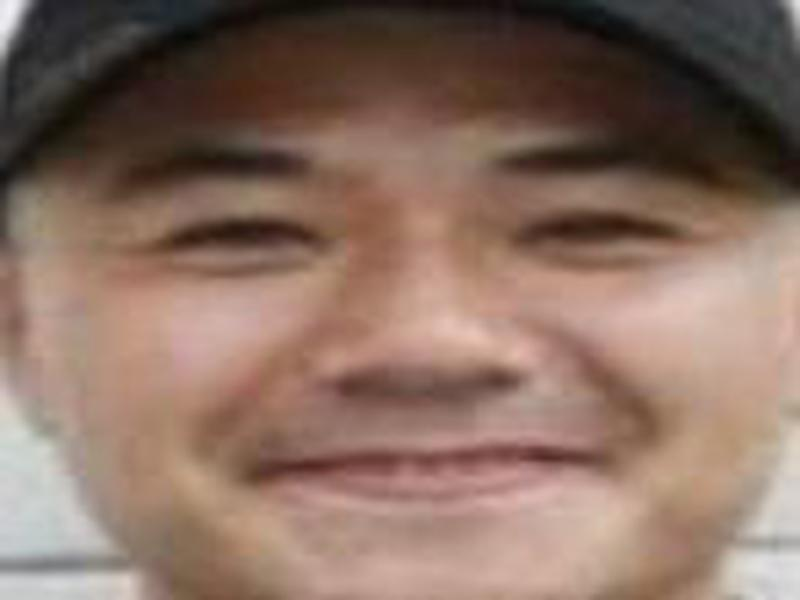without_mask: (23, 89, 791, 595)
